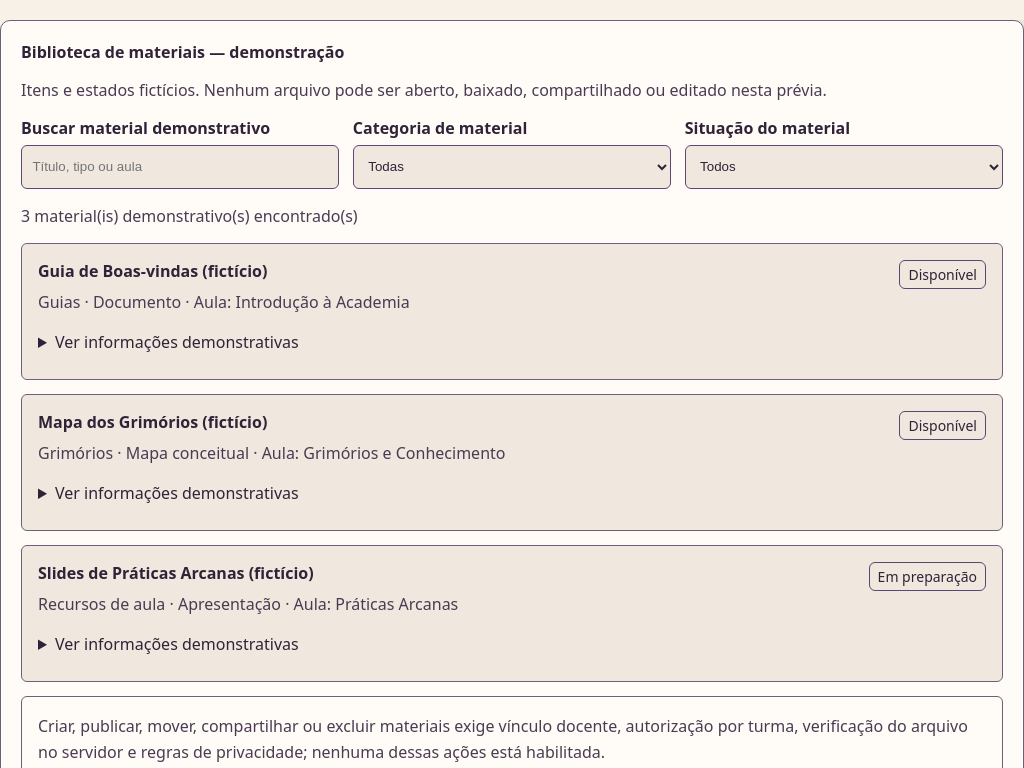
Test case: Professor → Turma A → Conteúdos e Materiais (prévia) › supports text search, a clean empty state and native details disclosure
The image size is (1024, 768).
Type "práticas arcanas" into the search field labelled "Buscar material demonstrativo" at (180, 167), box left=21, top=145, right=339, bottom=189
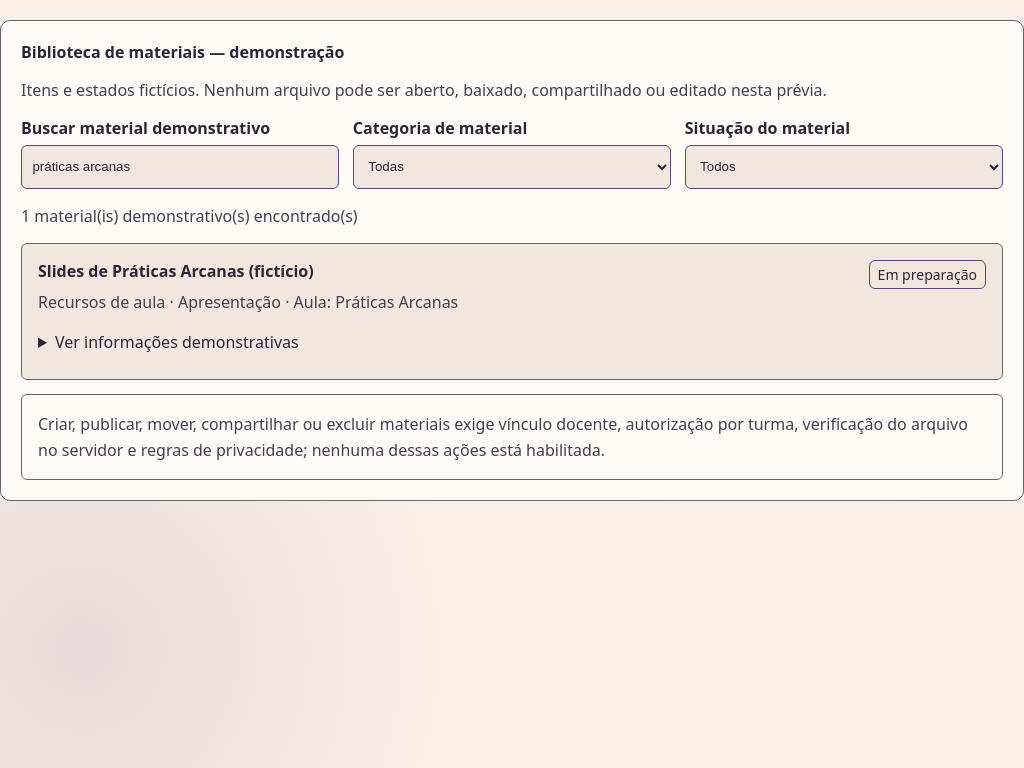
Check: the list item "Slides de Práticas Arcanas (fictício)" is shown, box left=38, top=260, right=314, bottom=282
Replace the text in the search field labelled "Buscar material demonstrativo" with "assunto inexistente" at (180, 167), box left=21, top=145, right=339, bottom=189
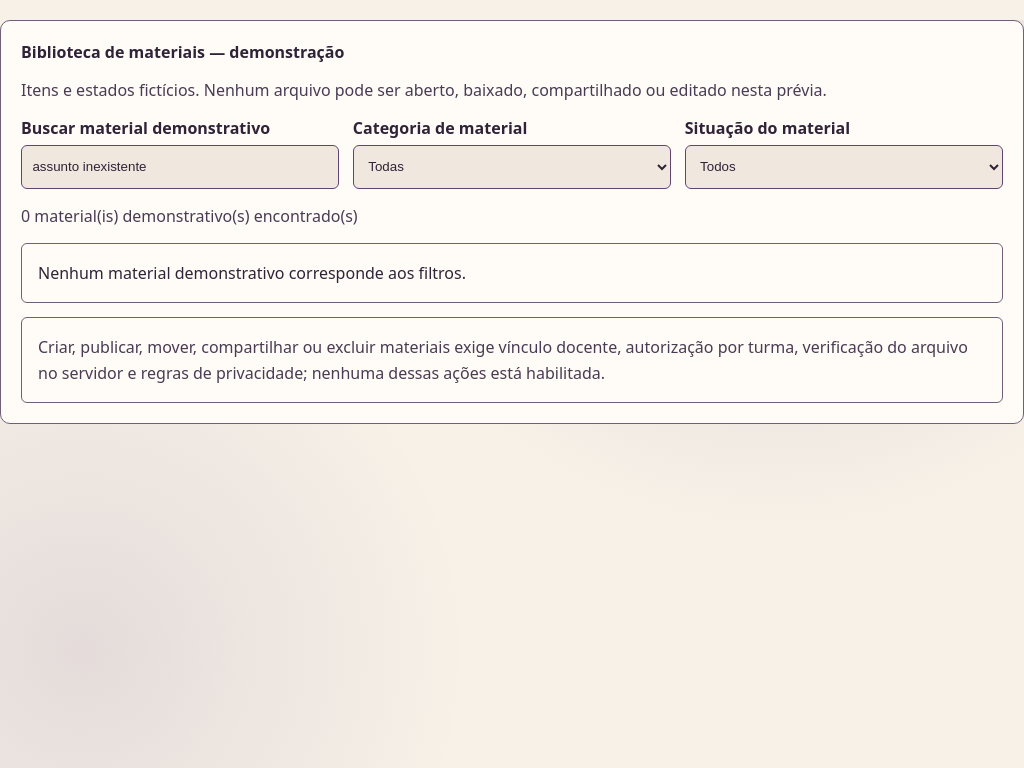
Check: the text "0 material(is) demonstrativo(s) encontrado(s)" is shown, box left=21, top=205, right=358, bottom=227
Check: the text "Nenhum material demonstrativo corresponde aos filtros." is shown, box left=21, top=242, right=1003, bottom=303
